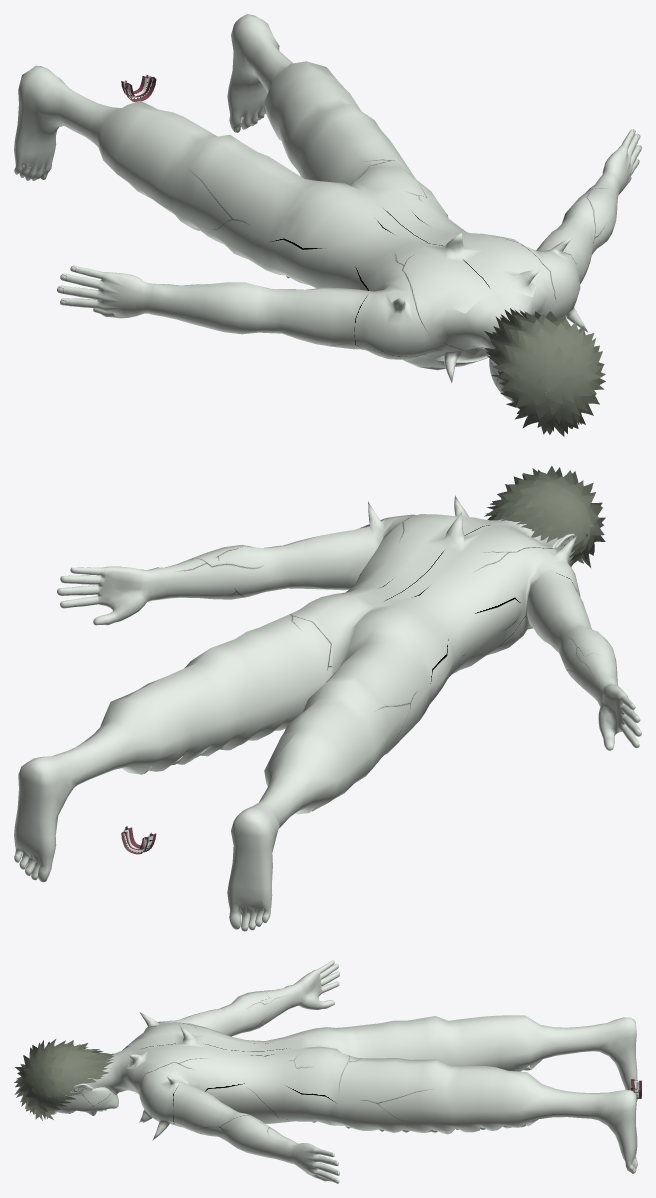
Rendered from enemy_creep_mele.fbx.
The picture shows the model from 3 angles, top to bottom: view 1: azimuth 30°, elevation 25°; view 2: azimuth 150°, elevation 25°; view 3: azimuth 270°, elevation 25°; orthographic projection. The views are drawn at different scales.
Parts seen in each view (by area): view 1: rztv00t0 body, rztv00t0 kami; view 2: rztv00t0 body, rztv00t0 kami; view 3: rztv00t0 body, rztv00t0 kami, rztv00t0 kao.
Boxes of the visible parts, box(x1,y1,x2,y2) form: rztv00t0 body: box(14, 14, 641, 382); rztv00t0 kami: box(484, 308, 605, 436); rztv00t0 body: box(14, 495, 641, 931); rztv00t0 kami: box(484, 466, 605, 567); rztv00t0 body: box(86, 960, 637, 1183); rztv00t0 kami: box(14, 1039, 113, 1120); rztv00t0 kao: box(54, 1083, 118, 1115).
Size of the model in its own units: 139 by 36.05 by 183.
